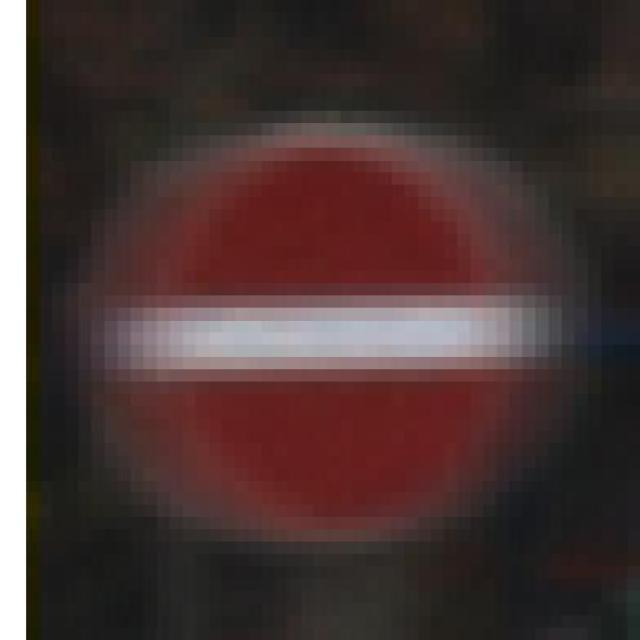B2: (100, 141, 548, 541)
